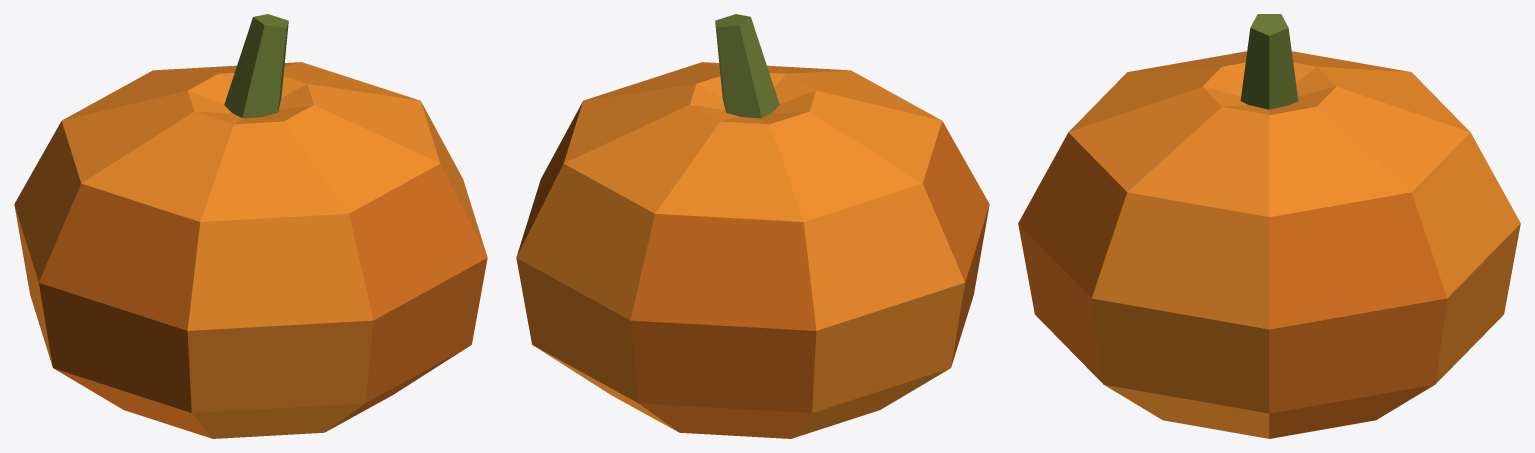
Rendered from pumpkin-crop.glb.
The picture shows the model from 3 angles, left to right: view 1: azimuth 30°, elevation 25°; view 2: azimuth 150°, elevation 25°; view 3: azimuth 270°, elevation 25°; orthographic projection. The views are drawn at different scales.
Visible parts, largest first — view 1: pumpkin-crop; view 2: pumpkin-crop; view 3: pumpkin-crop.
Part boxes in pixels (x1,y1,x2,y2): pumpkin-crop: [14, 14, 487, 438]; pumpkin-crop: [516, 14, 989, 438]; pumpkin-crop: [1018, 14, 1520, 438].
Bounding box in the file's own units: 0.345 × 0.288 × 0.345.
1 material, 1 textured.
